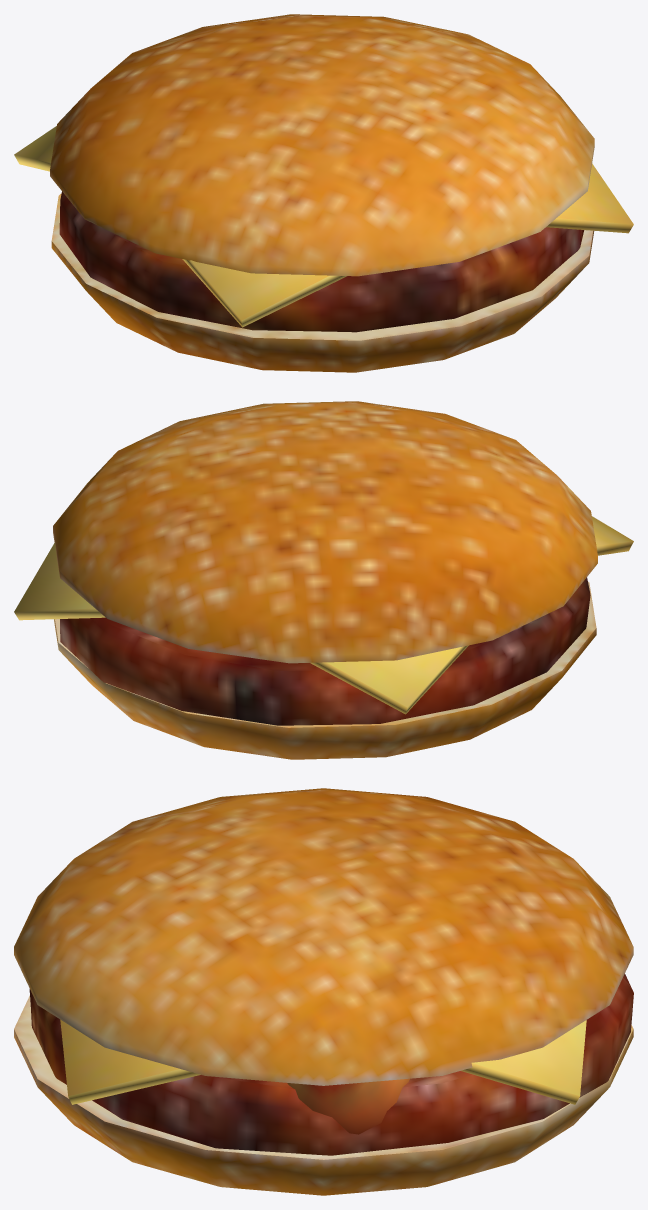
Rendered from human_burger_2.fbx.
3 views of the same model, one above another, from view 1: azimuth 30°, elevation 25°; view 2: azimuth 150°, elevation 25°; view 3: azimuth 270°, elevation 25° (orthographic). The views are drawn at different scales.
Visible parts, largest first — view 1: human_burger_2; view 2: human_burger_2; view 3: human_burger_2.
Part boxes in pixels (x1=…): human_burger_2: x1=14, y1=14, x2=633, y2=372; human_burger_2: x1=14, y1=401, x2=633, y2=759; human_burger_2: x1=14, y1=788, x2=633, y2=1195.
Bounding box in the file's own units: 12.01 × 5.98 × 11.98.
